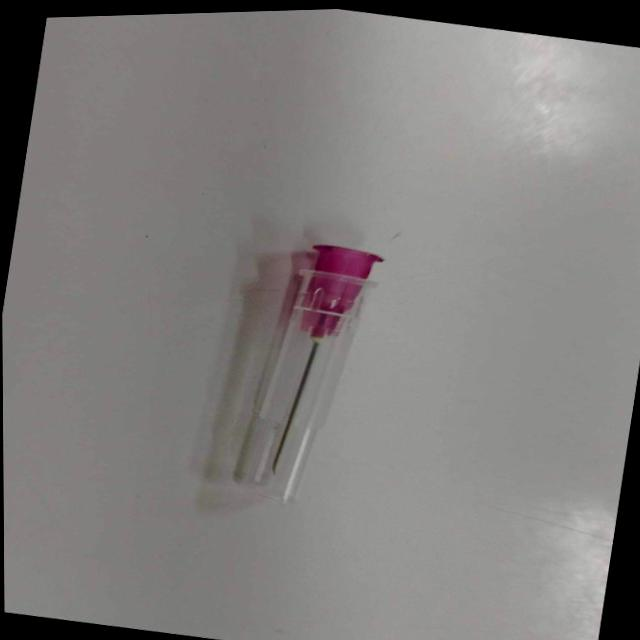General: (201, 241, 387, 504)
Sharps: (233, 249, 319, 484)
